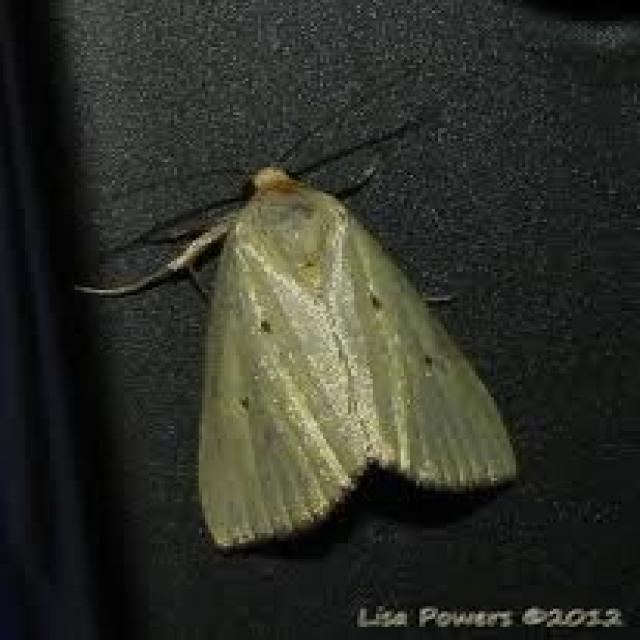yellow-stem-borer: (106, 121, 528, 554)
